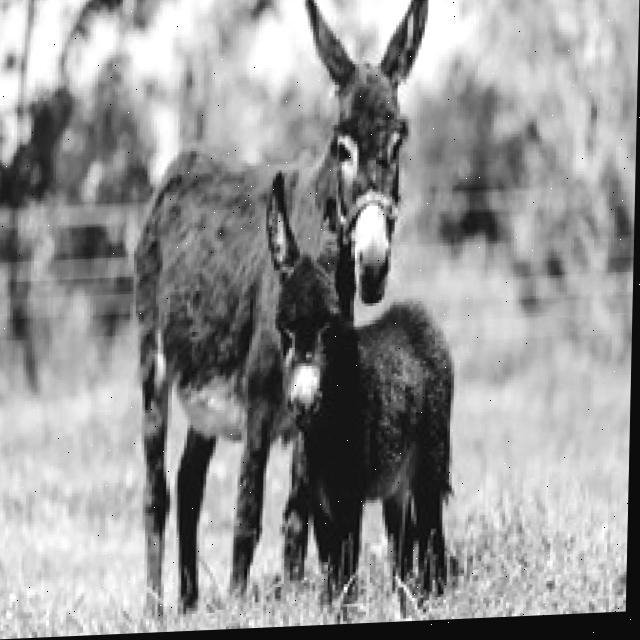Donkey: (123, 0, 429, 620), (254, 162, 459, 611)
